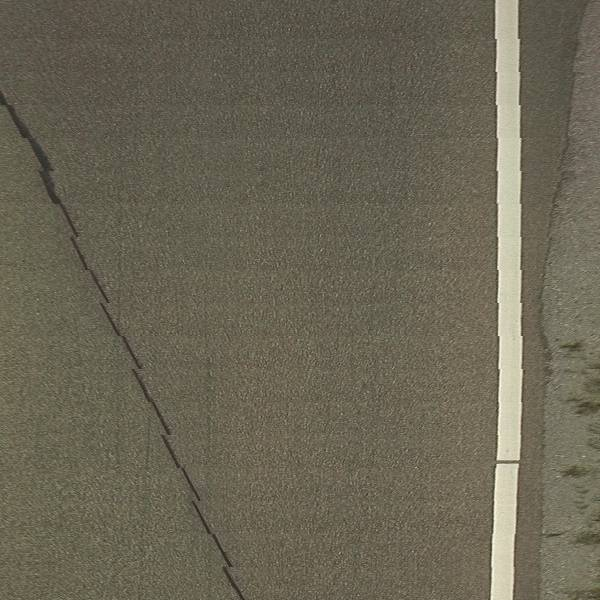road_damage: (22, 113, 246, 600)
